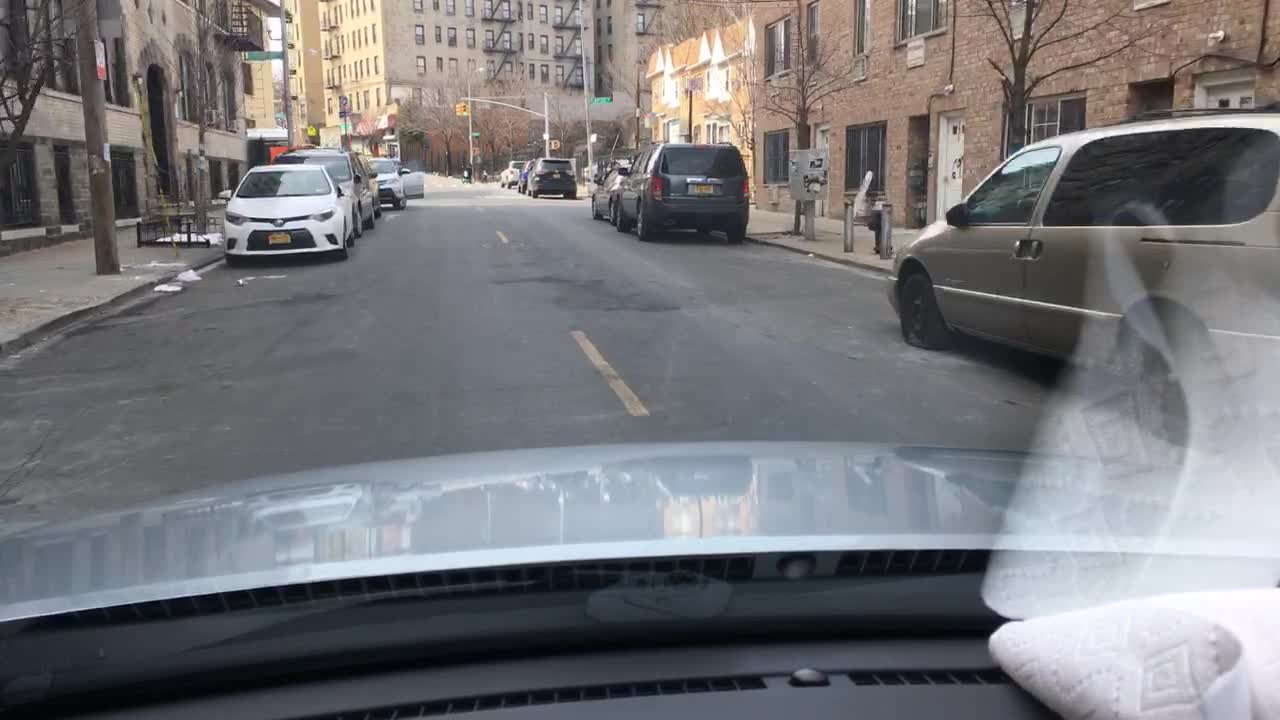car: (890, 107, 1278, 416), (614, 140, 751, 245), (219, 163, 350, 262), (261, 149, 373, 233), (373, 156, 424, 210), (588, 158, 628, 221), (527, 156, 577, 200), (355, 154, 378, 210), (499, 159, 522, 187), (516, 163, 532, 198)
traffic light: (453, 96, 462, 119), (548, 138, 562, 149), (460, 100, 469, 117)
traffic sign: (244, 47, 282, 65), (590, 95, 614, 107), (305, 124, 317, 140), (336, 107, 355, 117), (336, 95, 348, 109), (469, 130, 485, 138)
